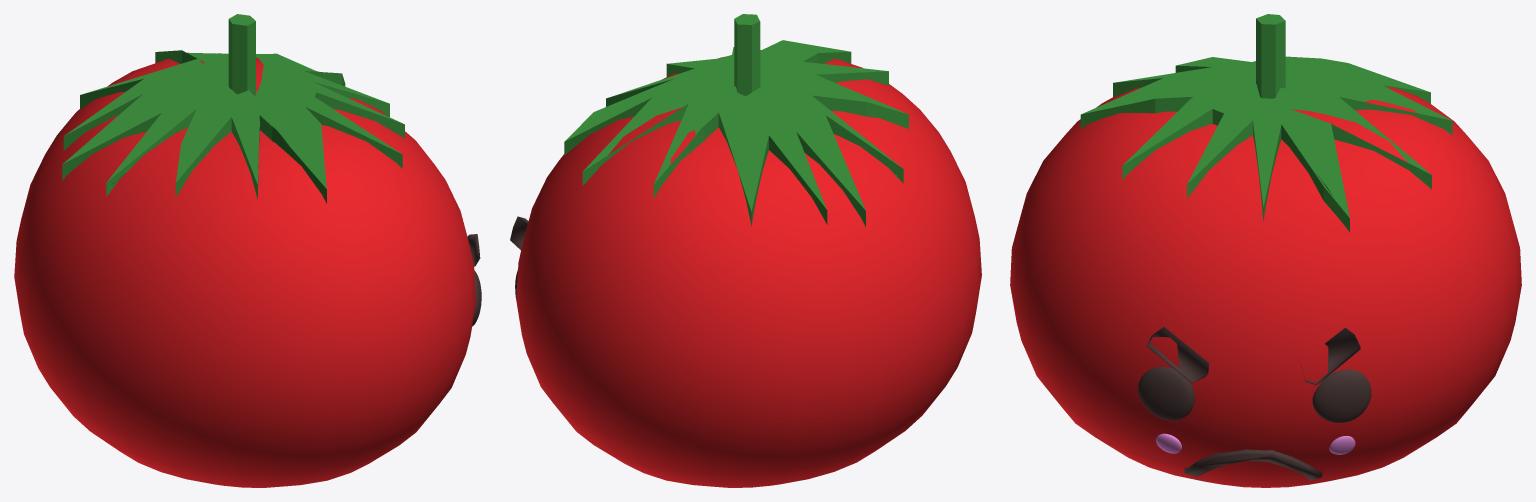
Rendered from angrytomato.fbx.
3 renders of one model, left to right at view 1: azimuth 30°, elevation 25°; view 2: azimuth 150°, elevation 25°; view 3: azimuth 270°, elevation 25°, orthographic.
Visible parts, largest first — view 1: head, upper; view 2: head, upper; view 3: head, upper, RightEye.008, lefteye, mouth.003, leftbrow, RightBrow.004.
Part boxes in pixels (bbox=[...]): head: bbox=[14, 53, 476, 487]; upper: bbox=[62, 14, 404, 203]; head: bbox=[516, 56, 981, 487]; upper: bbox=[564, 14, 908, 226]; head: bbox=[1010, 87, 1521, 487]; upper: bbox=[1080, 14, 1452, 232]; RightEye.008: bbox=[1312, 369, 1371, 423]; lefteye: bbox=[1138, 366, 1194, 420]; mouth.003: bbox=[1184, 449, 1322, 480]; leftbrow: bbox=[1147, 327, 1209, 383]; RightBrow.004: bbox=[1300, 327, 1360, 385].
Size of the model in its own units: 250 by 267 by 280.
